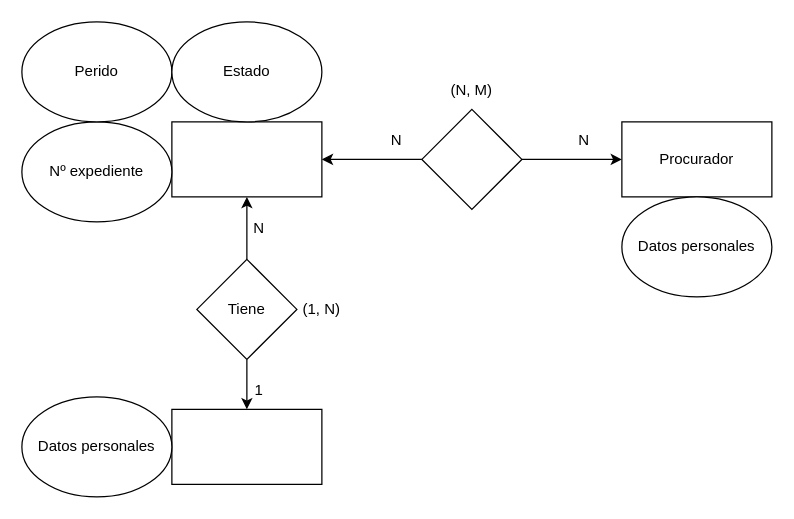
The diagram is 794 pixels wide and 519 high, and some of its shapes have lost their labels. The box of each missing label's shape, as (x1, y1, x2, y2) in pixels:
Asuntos: (171, 121, 322, 197)
Cliente: (171, 408, 322, 484)
LLeva: (421, 108, 522, 209)
